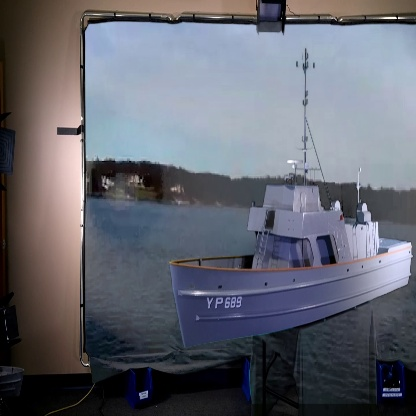YP689: (169, 42, 416, 351)
